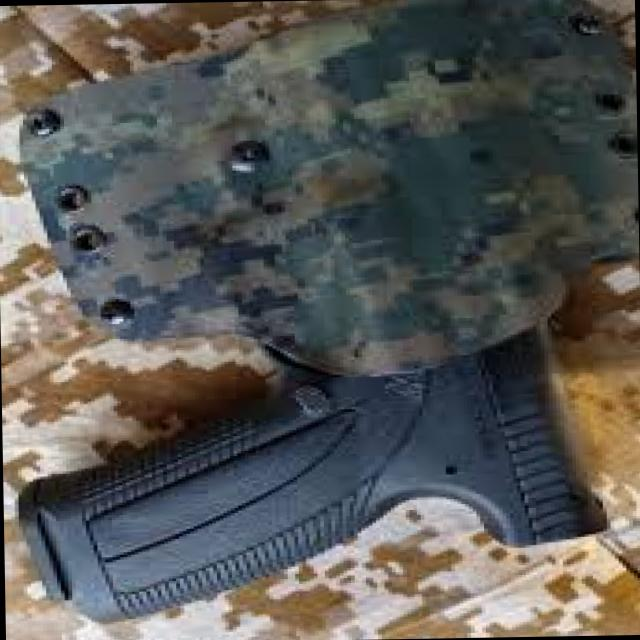Gun: (8, 4, 632, 634)
